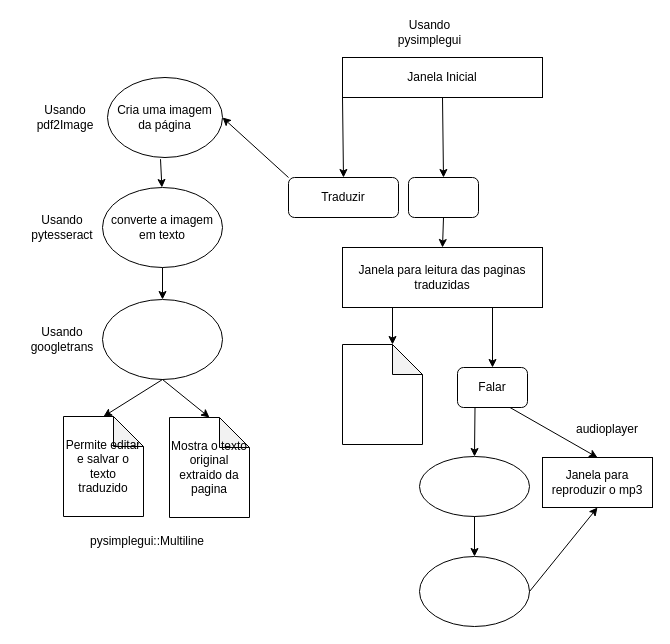
This 670x644 diagram has some shape labels left out. The centre of each missing label's shape, as x and y in pixels:
converte o texto traduzido em voz: [474,486]
Em caso de sucesso junta as partes mp3: [474,591]
Faz a tradução do texto: [162,339]
Ler: [443,197]
Mostra a pagina traduzida: [382,394]
